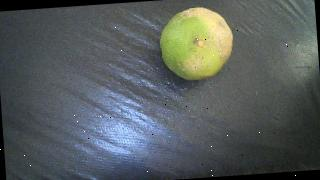DESECHO: (158, 5, 235, 82)
